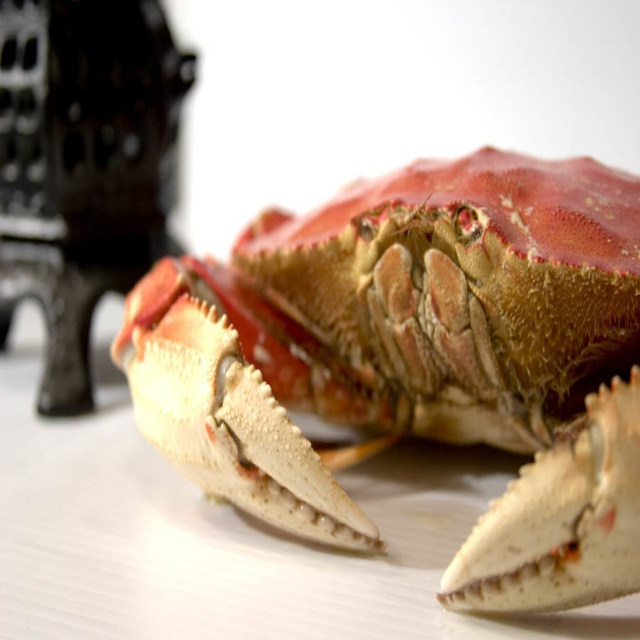Crab: (111, 145, 640, 619)
